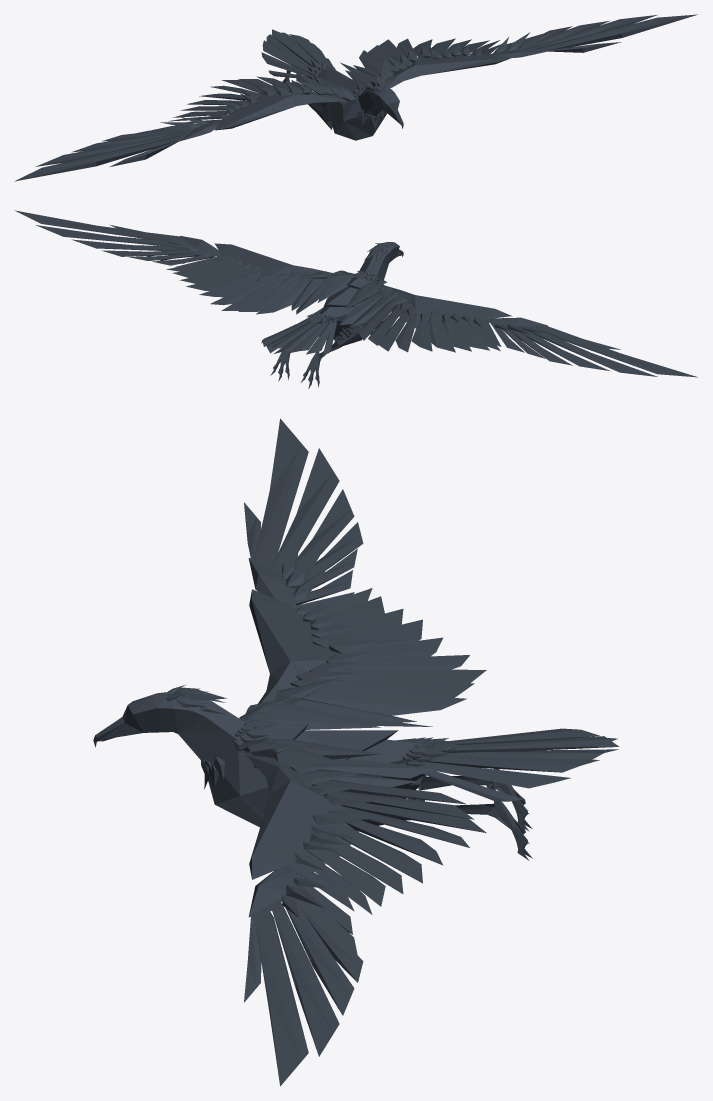
The model's file is polybirdTemp.fbx.
The picture shows the model from 3 angles, top to bottom: view 1: azimuth 30°, elevation 25°; view 2: azimuth 150°, elevation 25°; view 3: azimuth 270°, elevation 25°; orthographic projection. The views are drawn at different scales.
Parts seen in each view (by area): view 1: polybirdTemp; view 2: polybirdTemp; view 3: polybirdTemp.
Boxes of the visible parts, x1,y1,x2,y2 form: polybirdTemp: (14, 14, 698, 181); polybirdTemp: (14, 210, 697, 388); polybirdTemp: (93, 418, 619, 1086).
Size of the model in its own units: 24.75 by 2.69 by 8.23.
